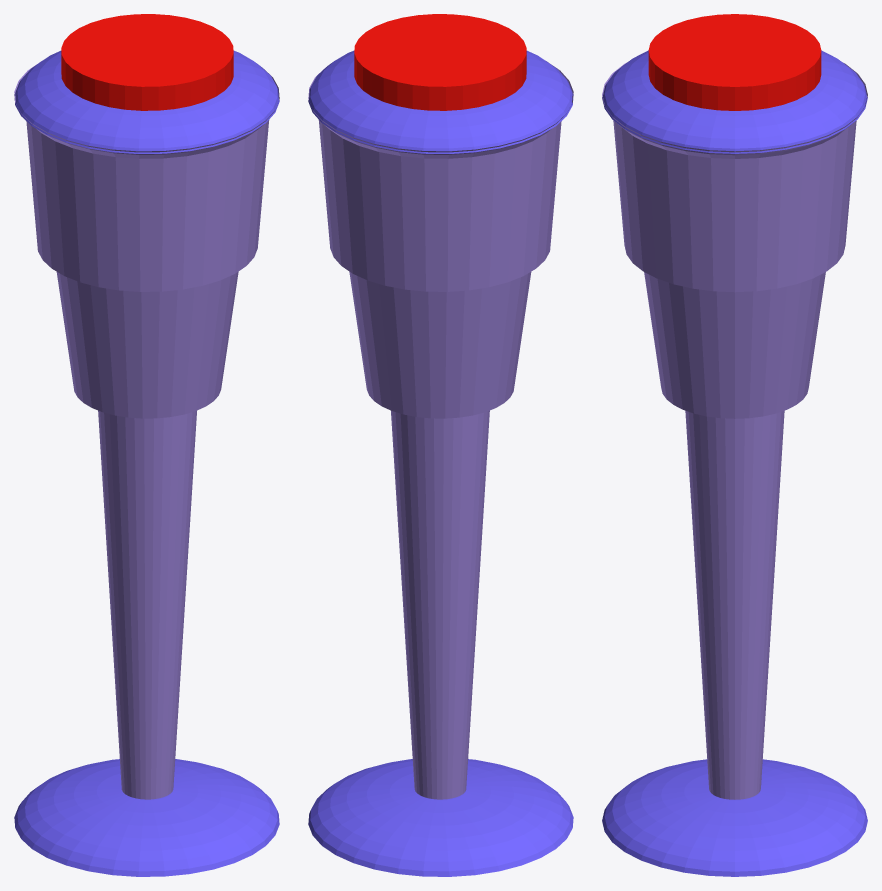
The model's file is Button.glb.
The picture shows the model from 3 angles, left to right: view 1: azimuth 30°, elevation 25°; view 2: azimuth 150°, elevation 25°; view 3: azimuth 270°, elevation 25°; orthographic projection.
Visible parts, largest first — view 1: Sphere.001, Sphere.002, Cylinder, Sphere; view 2: Sphere.001, Sphere.002, Cylinder, Sphere; view 3: Sphere.001, Sphere.002, Cylinder, Sphere.
Part boxes in pixels (left/top/right/bottom): Sphere.001: left=14, top=61, right=279, bottom=799; Sphere.002: left=14, top=759, right=279, bottom=876; Cylinder: left=61, top=14, right=233, bottom=110; Sphere: left=14, top=50, right=279, bottom=153; Sphere.001: left=308, top=61, right=573, bottom=799; Sphere.002: left=308, top=759, right=573, bottom=876; Cylinder: left=354, top=14, right=526, bottom=110; Sphere: left=308, top=50, right=573, bottom=153; Sphere.001: left=602, top=63, right=867, bottom=799; Sphere.002: left=602, top=759, right=867, bottom=876; Cylinder: left=648, top=14, right=821, bottom=110; Sphere: left=602, top=50, right=867, bottom=153.
Bounding box in the file's own units: 2 × 6.39 × 2.
